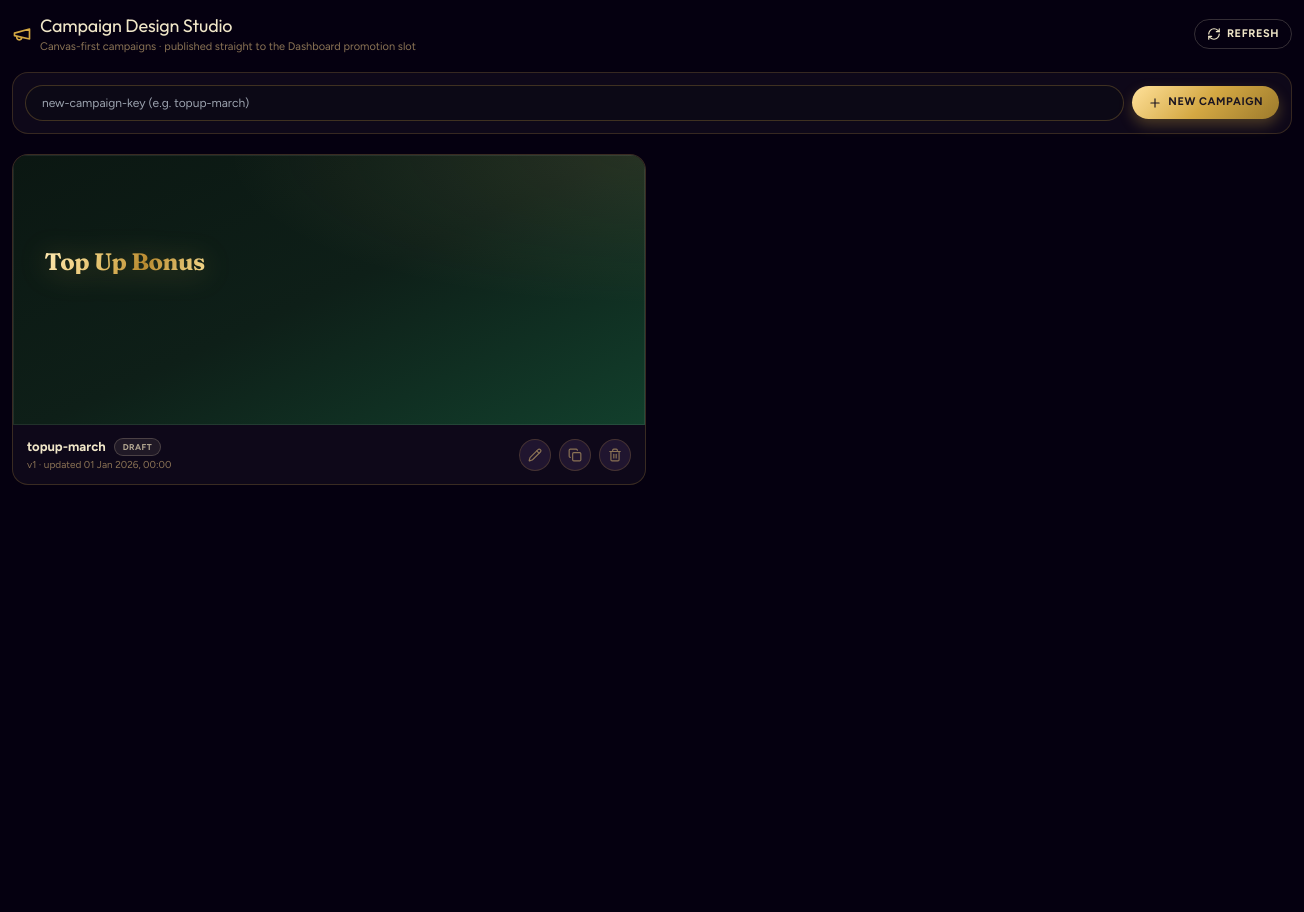
Scenario: opens a canvas campaign in the editor with its layers on the stage
Click the button "Top Up Bonus".
click(329, 290)  # box left=13, top=154, right=645, bottom=425
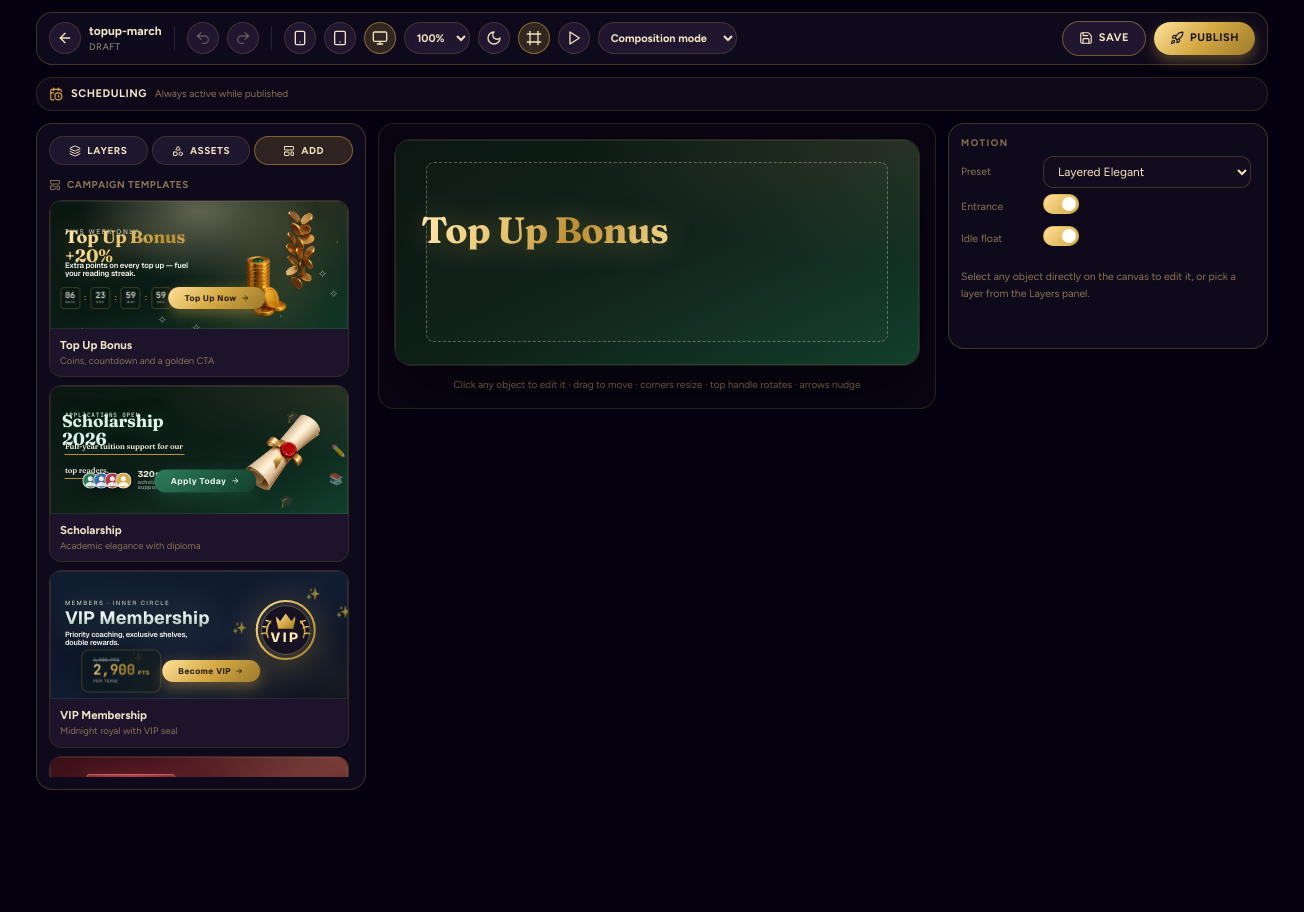
Result: the element with test id "campaign-editor" is shown
Result: the element with test id "canvas-stage" reads "Top Up Bonus" at left=421, top=206, right=668, bottom=251
Note: layers tab lists both layers
Click the button with test id "campaign-left-tab-layers".
click(98, 150)  # box left=49, top=136, right=148, bottom=165
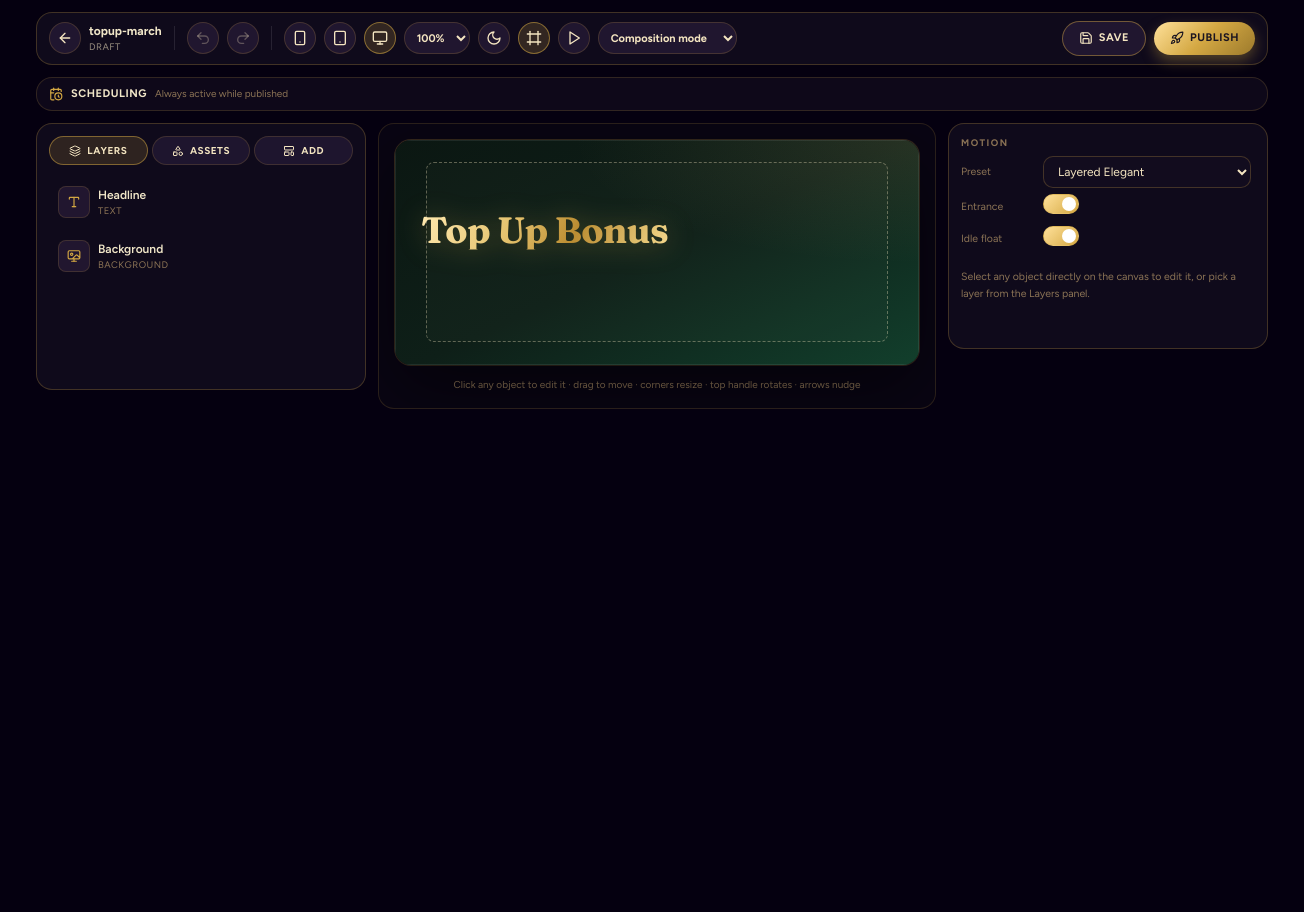
Result: the button with test id "layers-panel-row-bg1" is shown at left=58, top=240, right=169, bottom=272
Result: the button with test id "layers-panel-row-txt1" is shown at left=58, top=186, right=146, bottom=218
